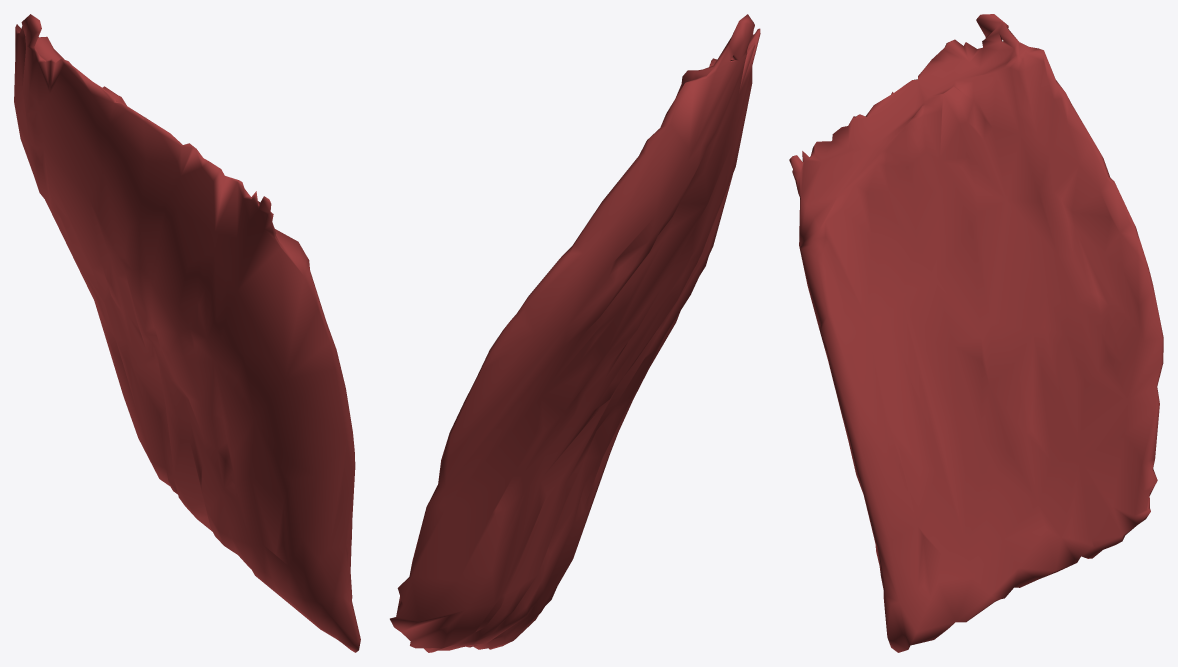
File: superficial-part-of-masseter-r.glb
3 views of the same model, side by side, from view 1: azimuth 30°, elevation 25°; view 2: azimuth 150°, elevation 25°; view 3: azimuth 270°, elevation 25° (orthographic). The views are drawn at different scales.
Visible parts, largest first — view 1: Superficial part of masseter.r; view 2: Superficial part of masseter.r; view 3: Superficial part of masseter.r.
Boxes of the visible parts, bbox=[...] form: Superficial part of masseter.r: bbox=[14, 14, 360, 652]; Superficial part of masseter.r: bbox=[390, 14, 760, 652]; Superficial part of masseter.r: bbox=[789, 14, 1163, 652].
Size of the model in its own units: 0.0266 by 0.0621 by 0.0395.
